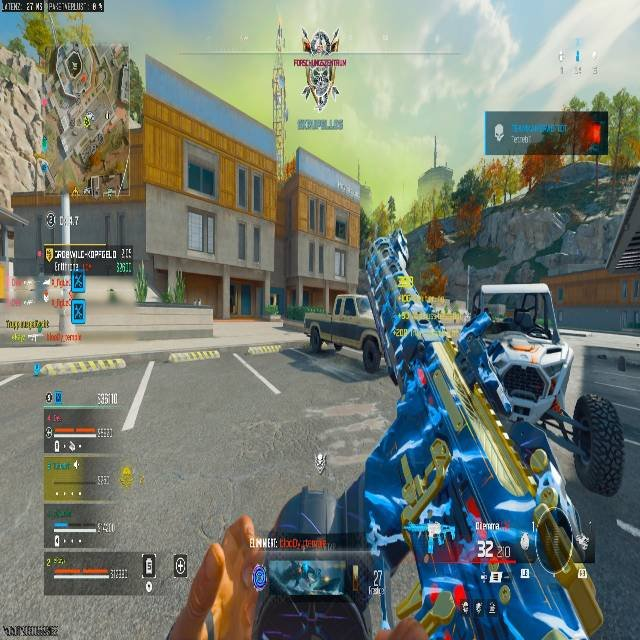head: (448, 170, 485, 227)
player: (362, 169, 490, 396)
